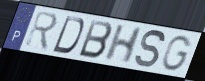B: (77, 18, 115, 60)
D: (50, 14, 86, 55)
G: (160, 34, 193, 73)
H: (102, 23, 145, 65)
R: (23, 10, 60, 53)
S: (134, 28, 167, 70)
